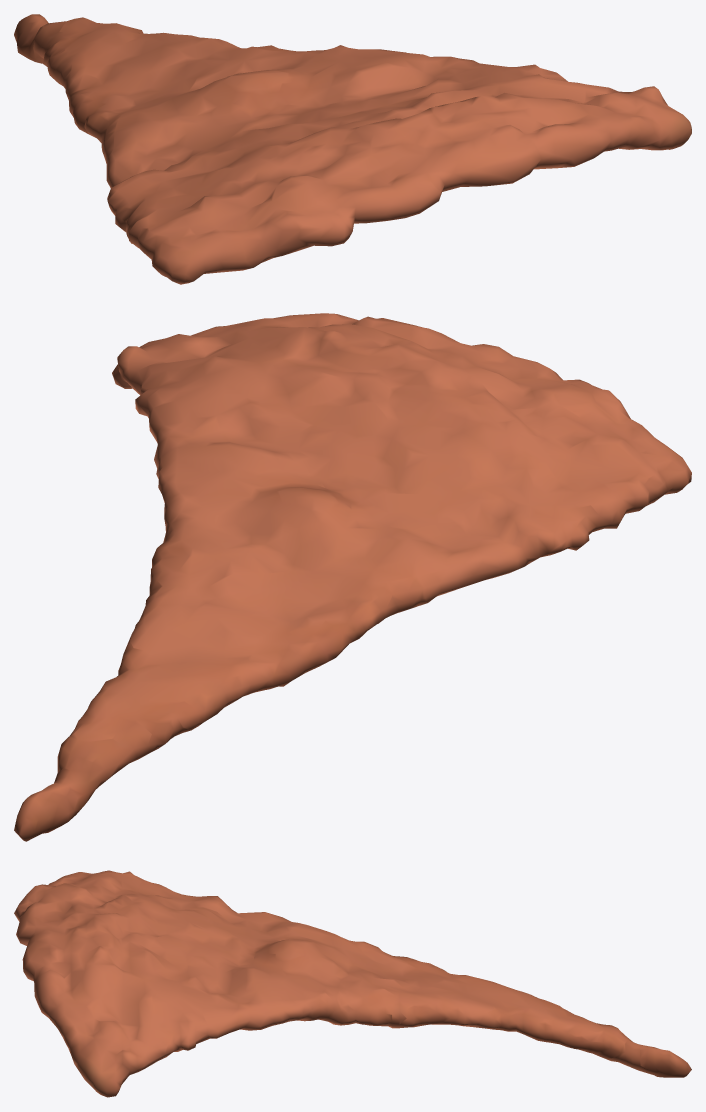
The picture shows the model from 3 angles, top to bottom: view 1: azimuth 30°, elevation 25°; view 2: azimuth 150°, elevation 25°; view 3: azimuth 270°, elevation 25°; orthographic projection. The views are drawn at different scales.
Parts seen in each view (by area): view 1: LOD 0_16298169511486423444_820756dedd5b3434c8e6bed8ae6a193b; view 2: LOD 0_16298169511486423444_820756dedd5b3434c8e6bed8ae6a193b; view 3: LOD 0_16298169511486423444_820756dedd5b3434c8e6bed8ae6a193b.
Boxes of the visible parts, <box> form: LOD 0_16298169511486423444_820756dedd5b3434c8e6bed8ae6a193b: <box>14,14,691,284</box>; LOD 0_16298169511486423444_820756dedd5b3434c8e6bed8ae6a193b: <box>14,313,691,841</box>; LOD 0_16298169511486423444_820756dedd5b3434c8e6bed8ae6a193b: <box>14,870,691,1097</box>.
Bounding box in the file's own units: 3.11 × 1.13 × 4.33.
